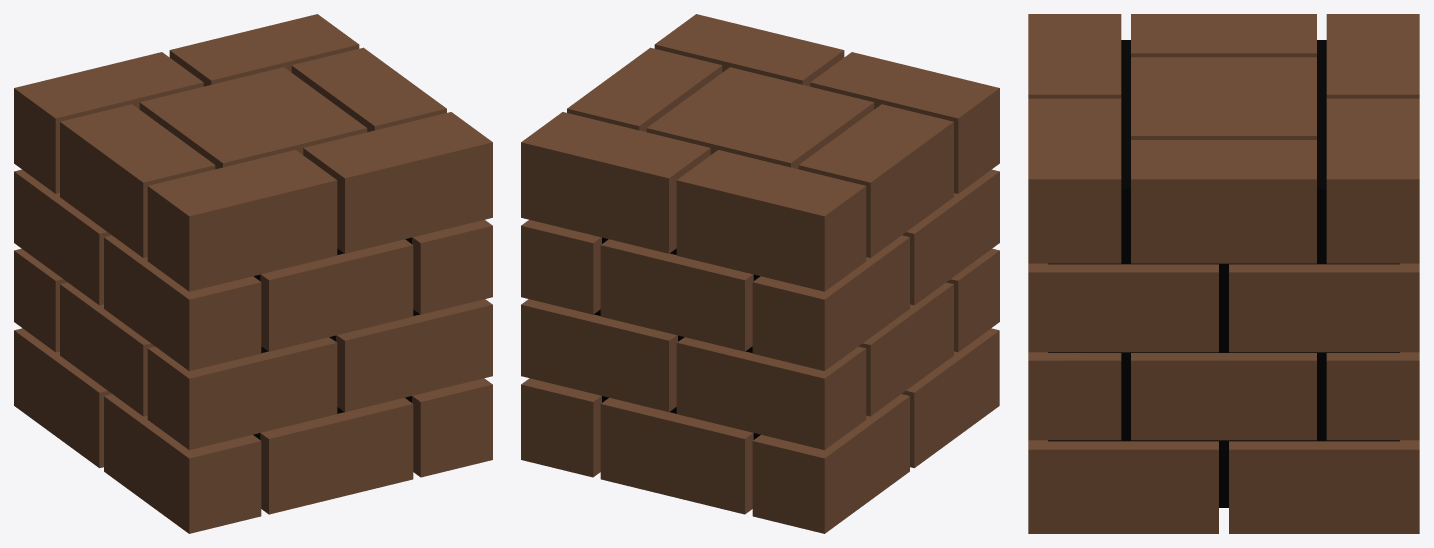
File: coinBlock.fbx
The picture shows the model from 3 angles, left to right: view 1: azimuth 30°, elevation 25°; view 2: azimuth 150°, elevation 25°; view 3: azimuth 270°, elevation 25°; orthographic projection. The views are drawn at different scales.
Visible parts, largest first — view 1: coinBlock; view 2: coinBlock; view 3: coinBlock.
Part boxes in pixels (x1,y1,x2,y2): coinBlock: (14,14,492,533); coinBlock: (521,14,999,533); coinBlock: (1028,14,1419,533).
Bounding box in the file's own units: 2 × 2 × 2.
